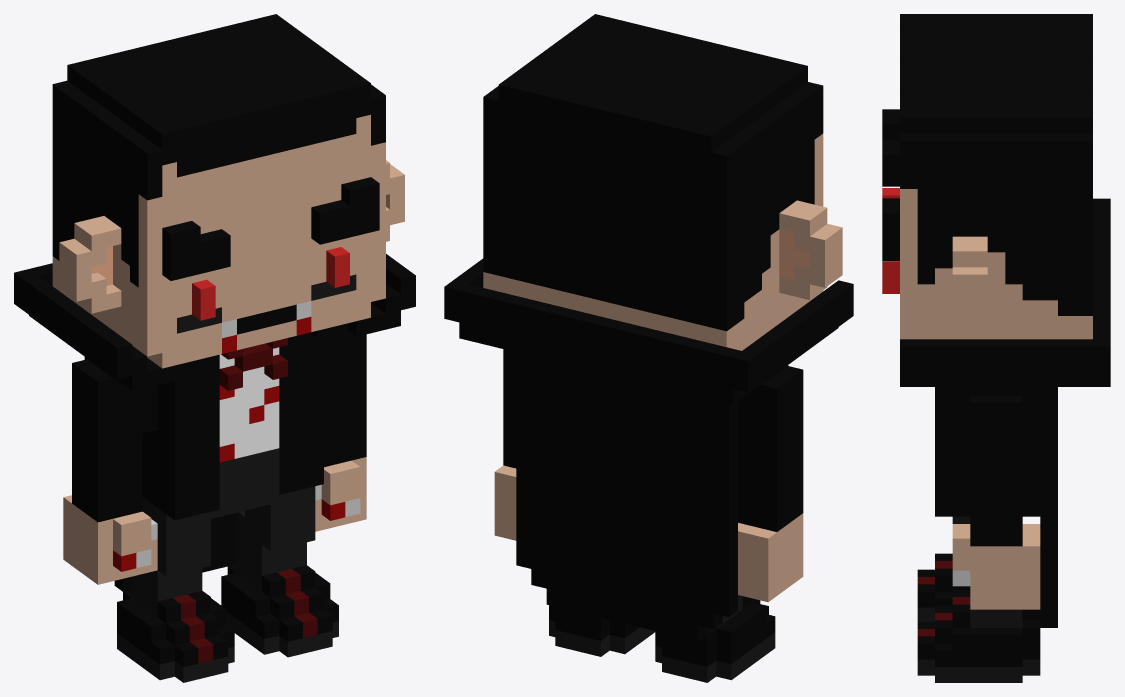
Rendered from asset.glb.
The picture shows the model from 3 angles, left to right: view 1: azimuth 30°, elevation 25°; view 2: azimuth 150°, elevation 25°; view 3: azimuth 270°, elevation 25°; orthographic projection.
Parts seen in each view (by area): view 1: Cube.3169; view 2: Cube.3169; view 3: Cube.3169.
Boxes of the visible parts, x1,y1,x2,y2 form: Cube.3169: (14, 14, 415, 682); Cube.3169: (444, 14, 853, 682); Cube.3169: (882, 14, 1110, 682).
Size of the model in its own units: 22 by 36 by 13.
